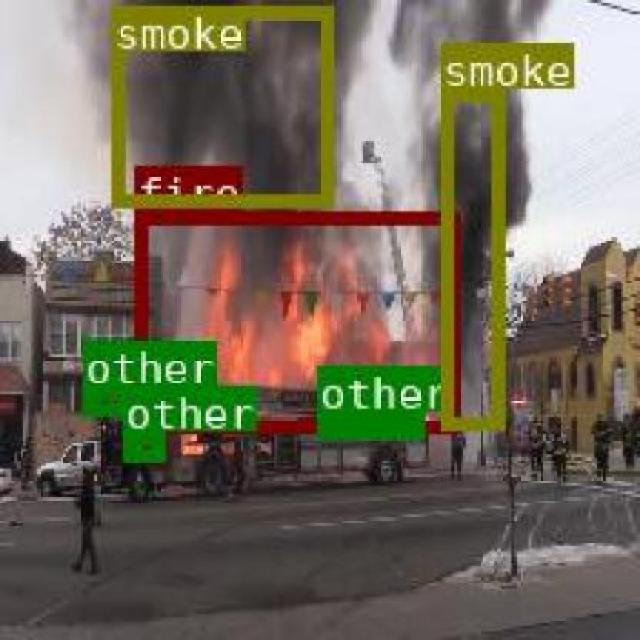Fire: (134, 209, 457, 431)
Smoke: (108, 4, 332, 204), (438, 88, 500, 430)
